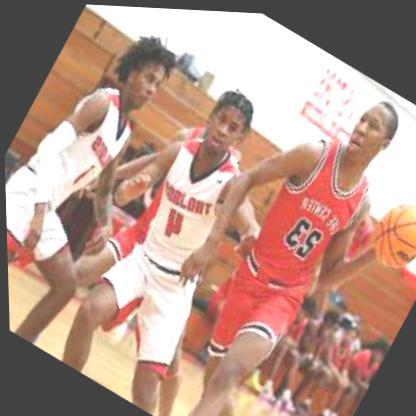basketball: (360, 187, 416, 274)
